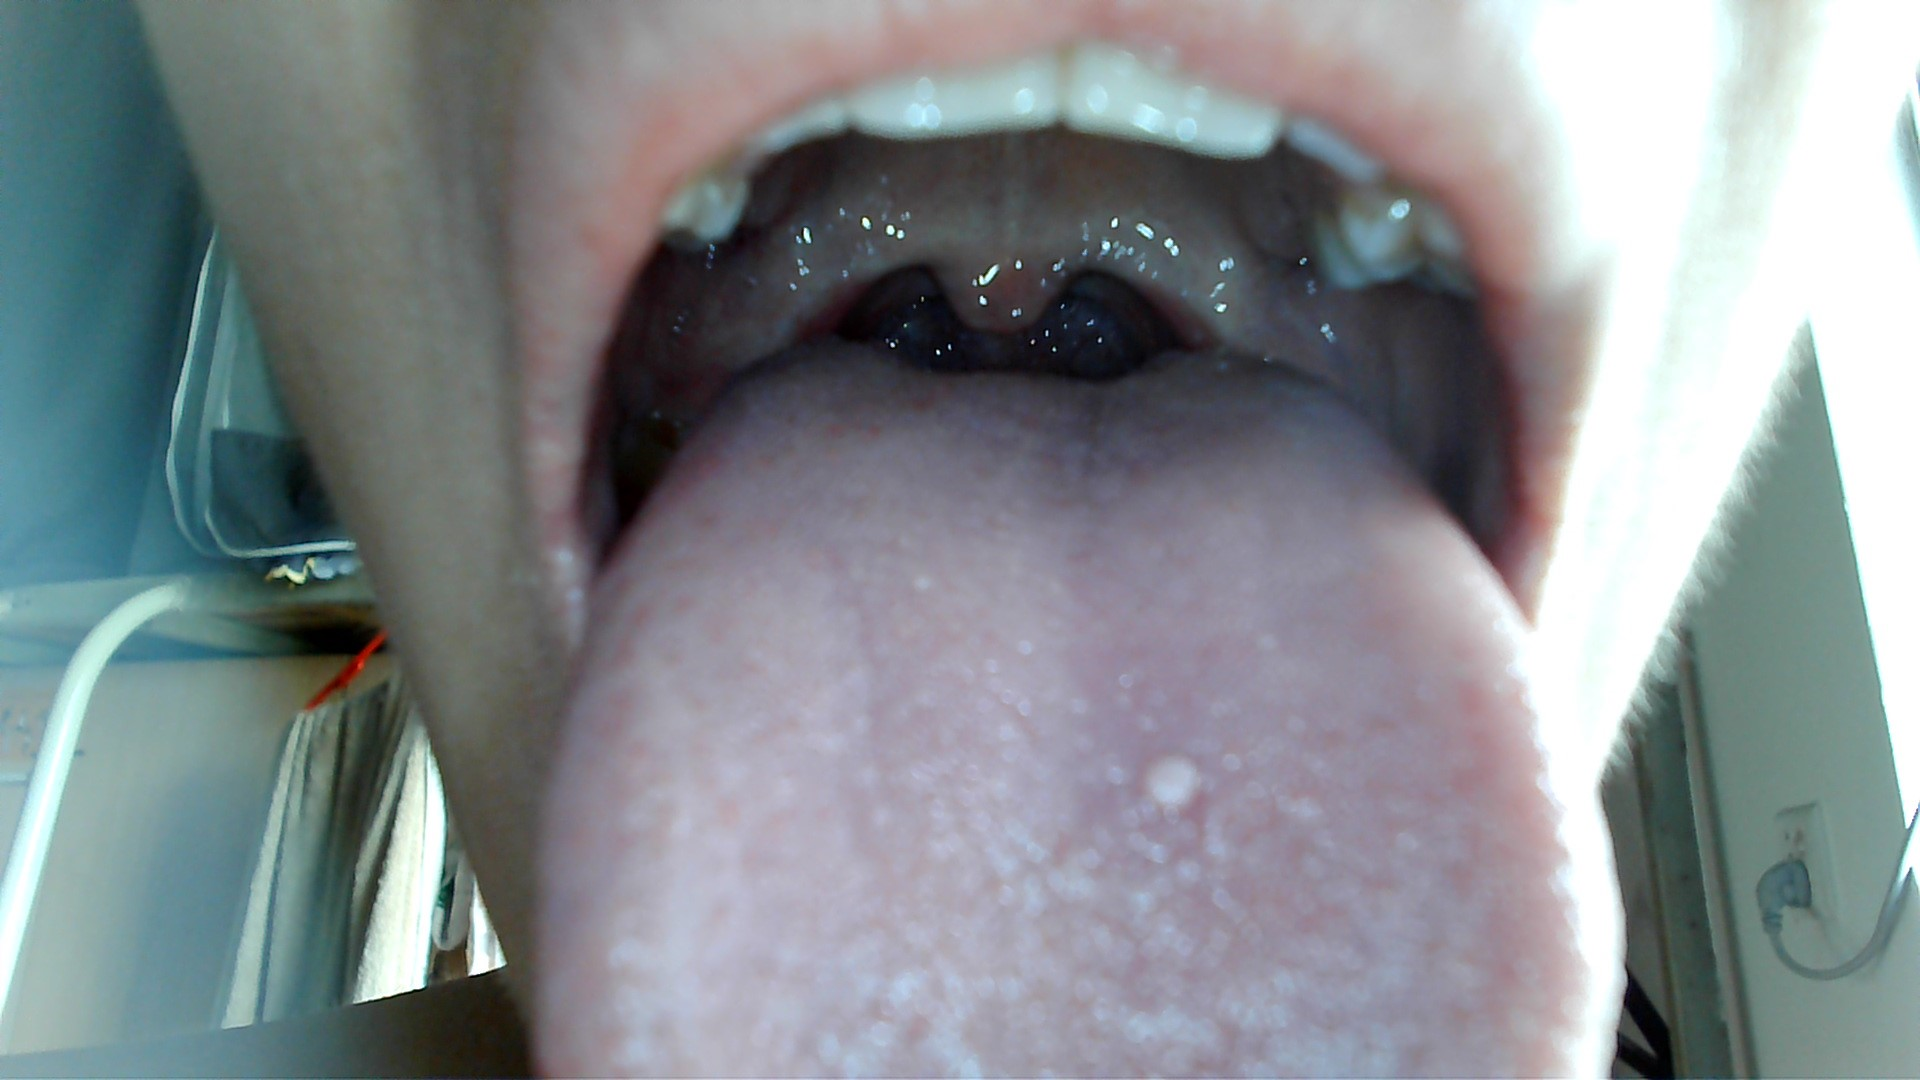throat: (1083, 248, 1222, 348), (778, 260, 926, 344)
